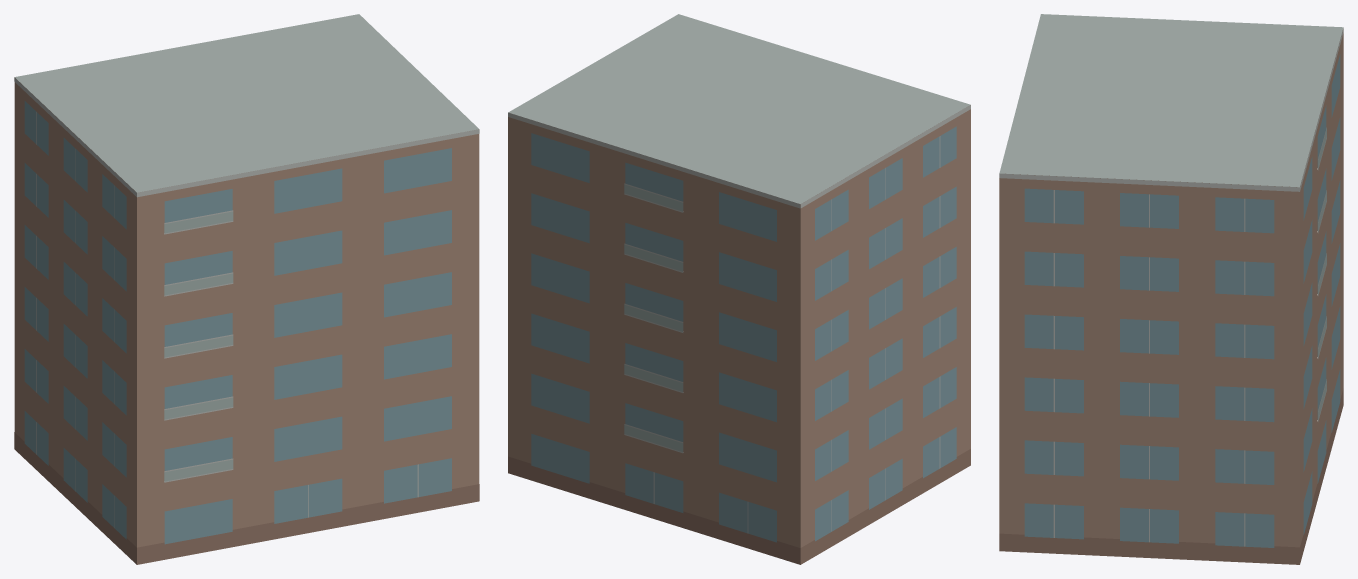
File: survey-upis-32662562.glb
3 renders of one model, left to right at view 1: azimuth 30°, elevation 25°; view 2: azimuth 150°, elevation 25°; view 3: azimuth 270°, elevation 25°, orthographic. The views are drawn at different scales.
Parts seen in each view (by area): view 1: survey-upis-32662562.tmp; view 2: survey-upis-32662562.tmp; view 3: survey-upis-32662562.tmp.
Part boxes in pixels (x1,y1,x2,y2): survey-upis-32662562.tmp: [14, 14, 479, 564]; survey-upis-32662562.tmp: [508, 14, 970, 564]; survey-upis-32662562.tmp: [999, 14, 1343, 564].
Bounding box in the file's own units: 19.55 × 19.86 × 16.42.
